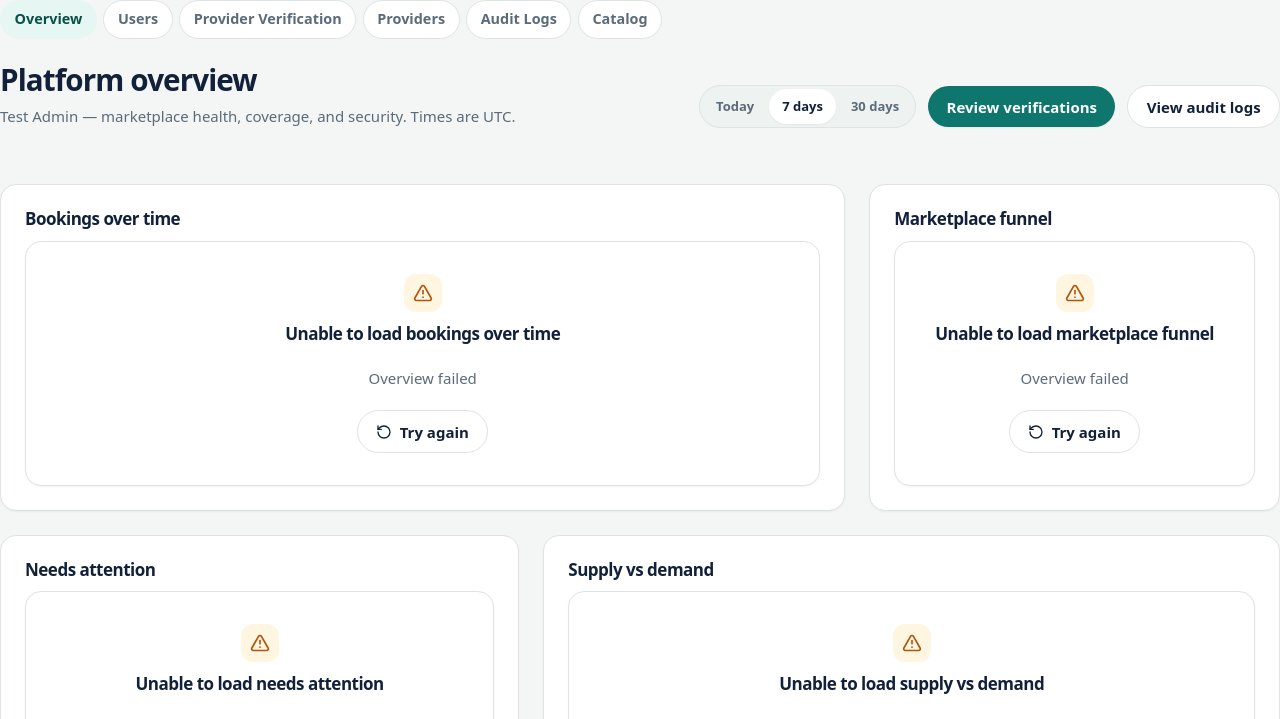
Scenario: AdminOverviewPage › retries after an error
The image size is (1280, 719).
Click the button "Try again" below "Unable to load bookings over time".
click(423, 432)  # box [357,410,488,453]
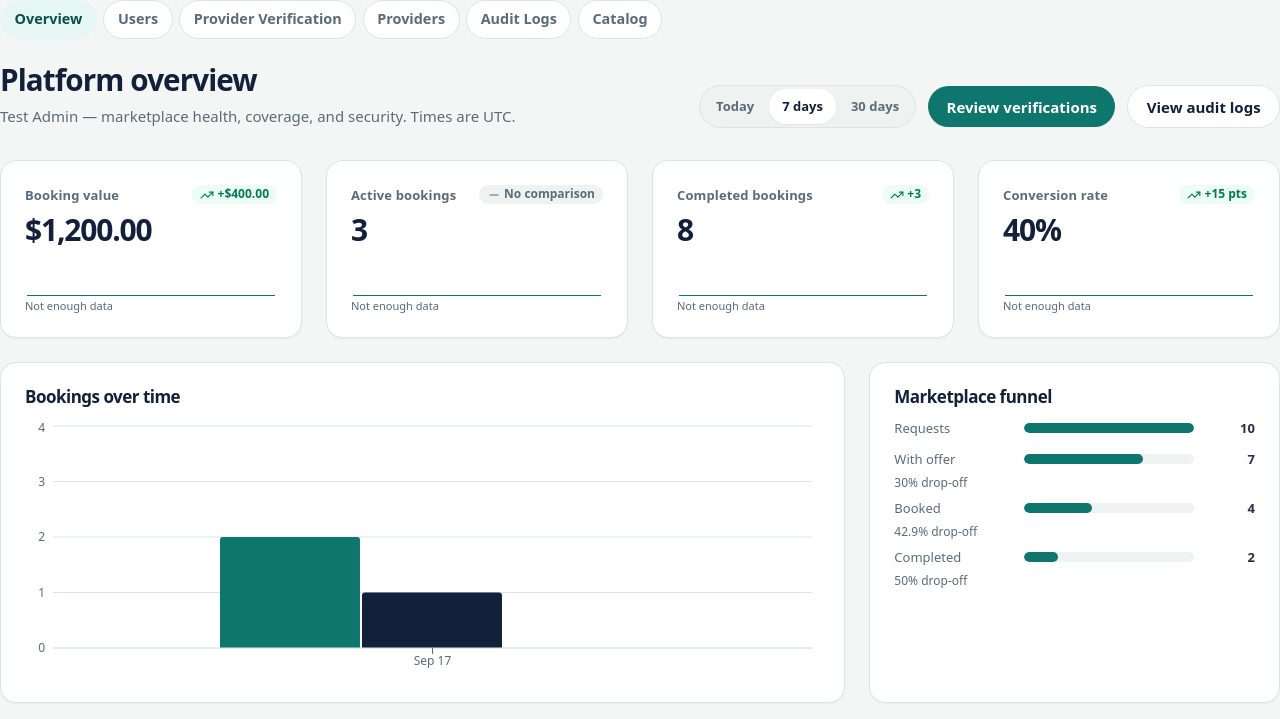
Result: the text "Booking value" is shown at [25,185,119,205]
